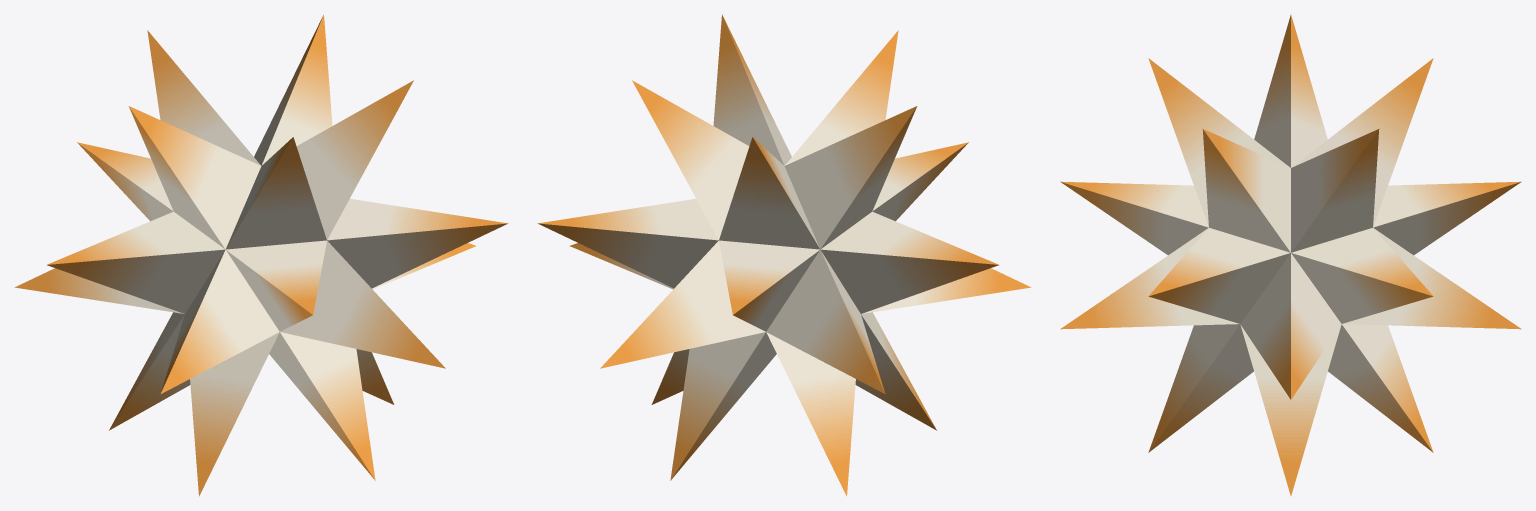
File: explode_in.glb
The picture shows the model from 3 angles, left to right: view 1: azimuth 30°, elevation 25°; view 2: azimuth 150°, elevation 25°; view 3: azimuth 270°, elevation 25°; orthographic projection. The views are drawn at different scales.
Visible parts, largest first — view 1: Icosphere; view 2: Icosphere; view 3: Icosphere.
Part boxes in pixels (x1,y1,x2,y2): Icosphere: (14, 14, 508, 496); Icosphere: (537, 14, 1031, 496); Icosphere: (1060, 15, 1521, 495).
Size of the model in its own units: 3.53 by 2.85 by 3.35.
Materials: 1 (1 with a texture image).
